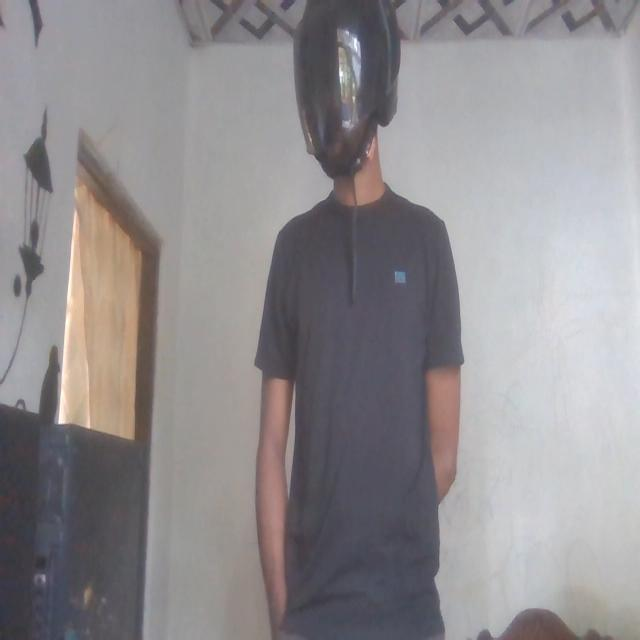Helmet_Wearer: (289, 0, 406, 188)
Person: (255, 2, 458, 640)
